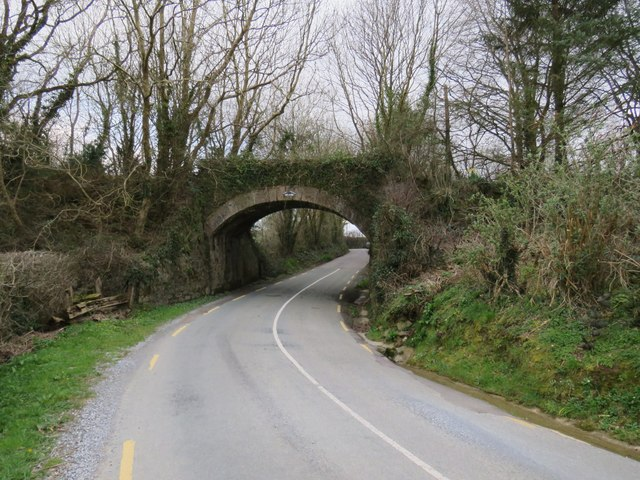bridge: (196, 156, 430, 235)
